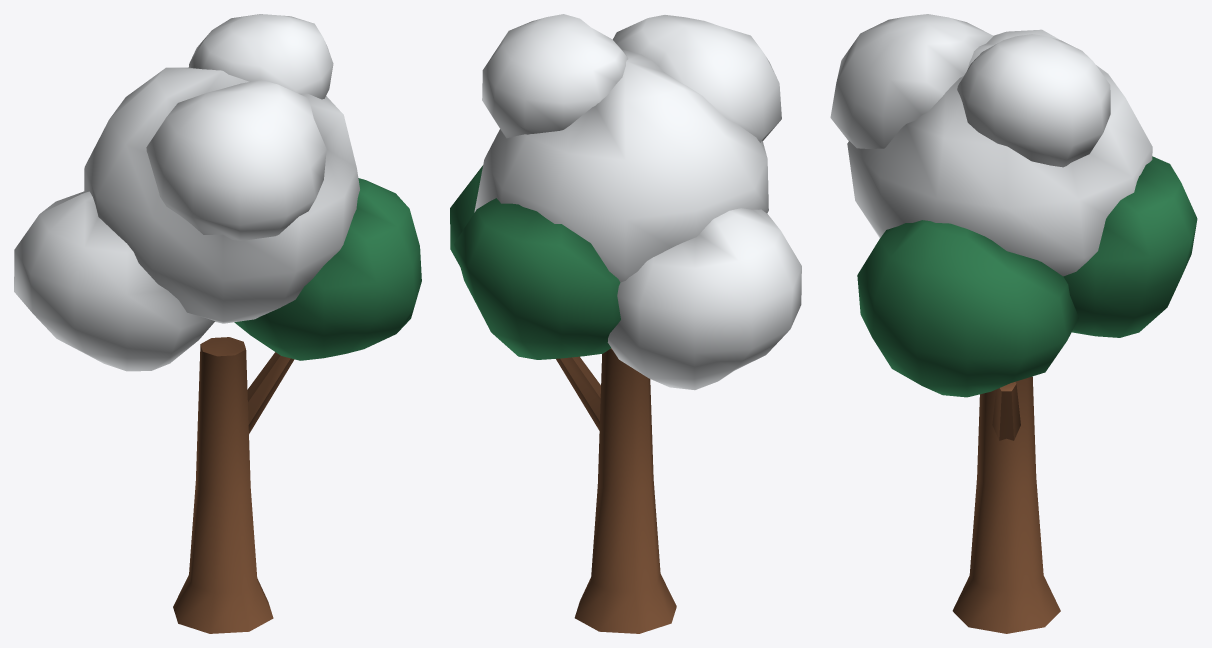
Rendered from tree_round_winter.glb.
3 views of the same model, side by side, from view 1: azimuth 30°, elevation 25°; view 2: azimuth 150°, elevation 25°; view 3: azimuth 270°, elevation 25° (orthographic). The views are drawn at different scales.
Visible parts, largest first — view 1: Tree; view 2: Tree; view 3: Tree.
Boxes of the visible parts, x1=… form: Tree: x1=14, y1=14, x2=421, y2=633; Tree: x1=450, y1=14, x2=801, y2=633; Tree: x1=830, y1=14, x2=1197, y2=633.
Bounding box in the file's own units: 0.8502 × 1.33 × 0.7441.
Materials: 1 (1 with a texture image).
